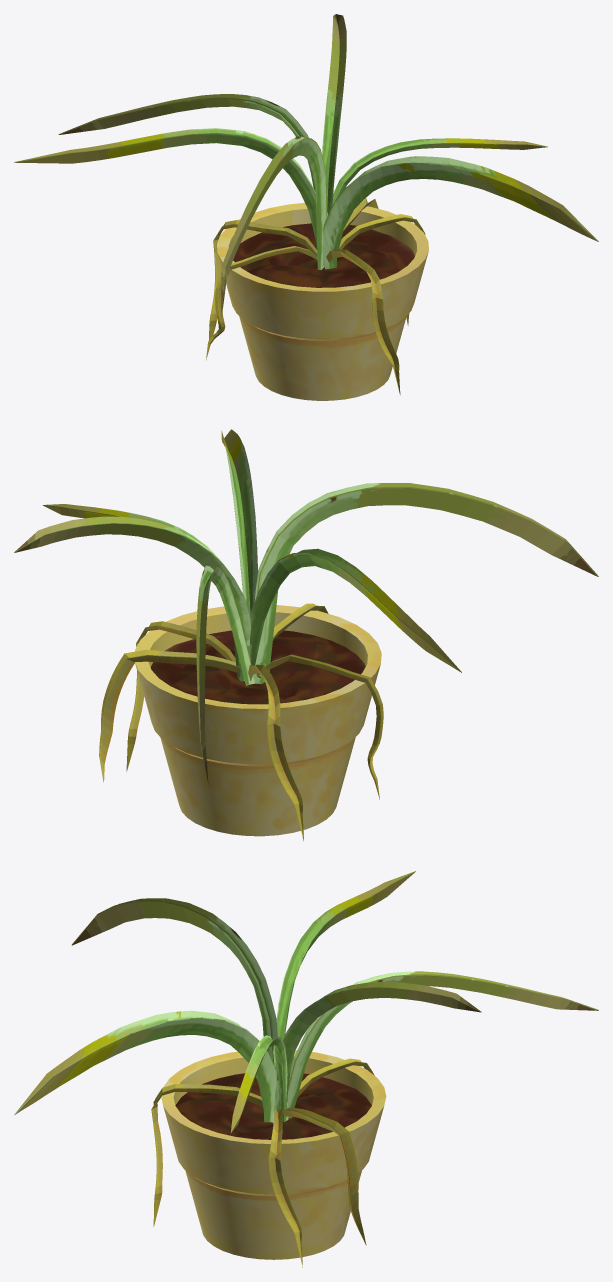
The model's file is Chlorophytum_Horrible_End.glb.
The picture shows the model from 3 angles, top to bottom: view 1: azimuth 30°, elevation 25°; view 2: azimuth 150°, elevation 25°; view 3: azimuth 270°, elevation 25°; orthographic projection. The views are drawn at different scales.
Visible parts, largest first — view 1: Pot, Cube.006, Cube.004, Cube.012, Cube.009, Cube.014, Cube.013, Cube.010, Cube.008, Cube.019, Cube.007; view 2: Pot, Cube.012, Cube.004, Cube.014, Cube.006, Cube.009, Cube.021, Cube.008, Cube.007, Cube.019, Cube.013; view 3: Pot, Cube.006, Cube.012, Cube.009, Cube.014, Cube.004, Cube.013, Cube.021, Cube.010, Cube.007, Cube.008.
Boxes of the visible parts, box(x1,y1,x2,y2) form: Pot: box(217, 203, 428, 400); Cube.006: box(323, 156, 598, 269); Cube.004: box(14, 128, 325, 244); Cube.012: box(221, 136, 326, 317); Cube.009: box(58, 94, 317, 261); Cube.014: box(322, 14, 346, 215); Cube.013: box(326, 138, 547, 217); Cube.010: box(326, 249, 400, 395); Cube.008: box(208, 220, 317, 340); Cube.019: box(206, 246, 317, 360); Cube.007: box(339, 214, 425, 325); Pot: box(135, 605, 381, 836); Cube.012: box(250, 483, 598, 683); Cube.004: box(250, 548, 461, 672); Cube.014: box(14, 516, 257, 683); Cube.006: box(221, 429, 258, 664); Cube.009: box(196, 565, 255, 786); Cube.021: box(99, 649, 260, 782); Cube.008: box(248, 664, 303, 841); Cube.007: box(126, 621, 235, 771); Cube.019: box(256, 654, 383, 799); Cube.013: box(43, 504, 242, 682); Pot: box(161, 1050, 386, 1259); Cube.006: box(14, 1010, 276, 1122); Cube.012: box(71, 898, 277, 1064); Cube.009: box(287, 971, 598, 1118); Cube.014: box(274, 981, 481, 1113); Cube.004: box(272, 871, 415, 1122); Cube.013: box(230, 1035, 288, 1133); Cube.021: box(277, 1108, 366, 1245); Cube.010: box(151, 1084, 263, 1226); Cube.007: box(268, 1107, 302, 1267); Cube.008: box(297, 1058, 374, 1097).
Size of the model in its own units: 9.94 by 5.74 by 10.63.
4 materials, 4 textured.
